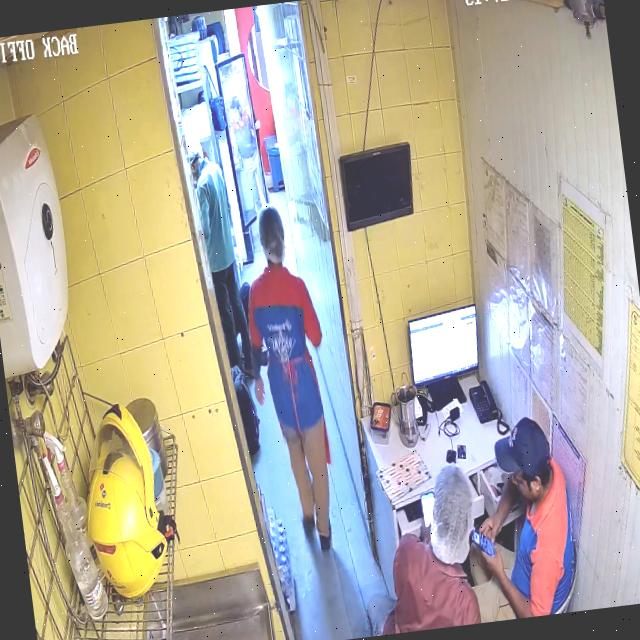helmet: (87, 401, 168, 600), (493, 419, 552, 500)
no_helmet: (429, 463, 473, 563), (256, 206, 285, 263)
